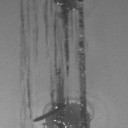slag inclusion: (34, 0, 91, 128), (19, 0, 39, 57), (25, 57, 32, 120)
